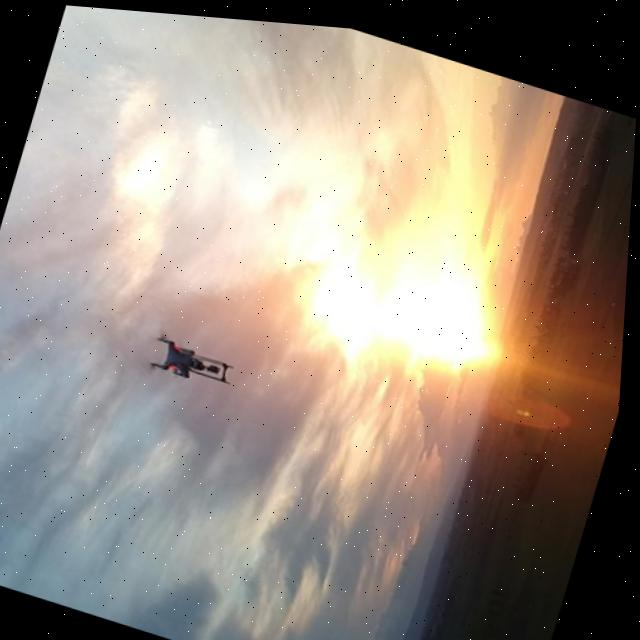drones: (129, 320, 250, 392)
